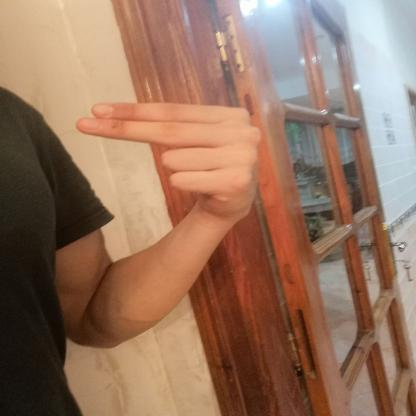AYN: (65, 89, 277, 228)
